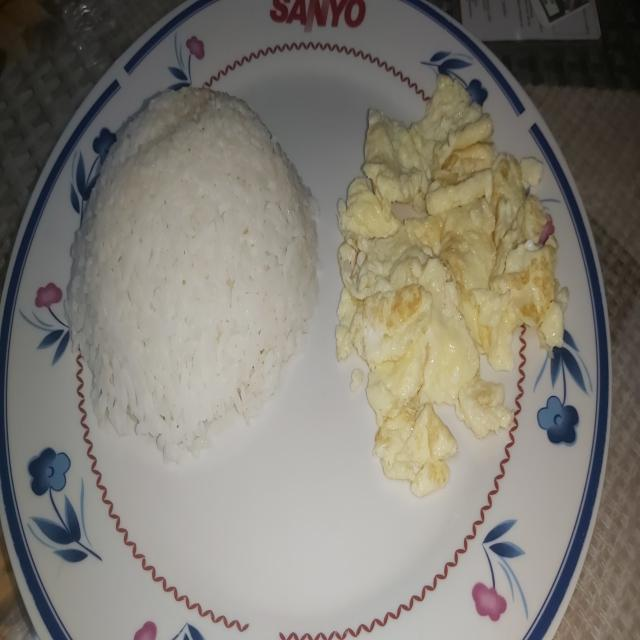Chicken -Chicken Inasal-: (77, 83, 315, 444)
